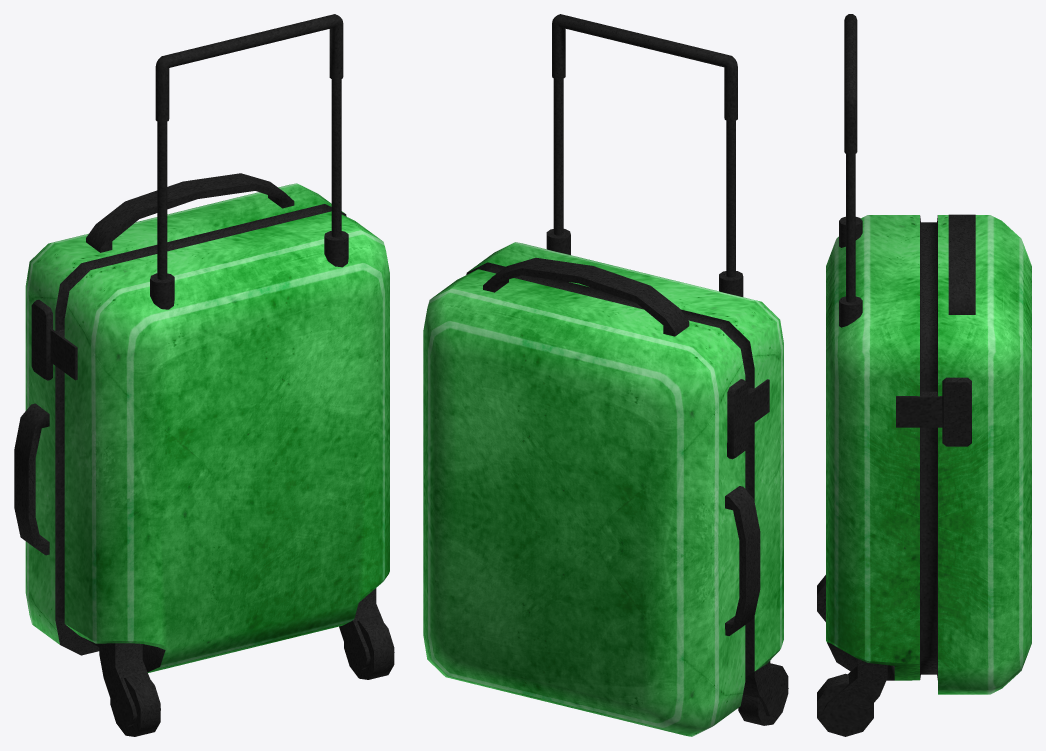
File: suitcase_9.fbx
The picture shows the model from 3 angles, left to right: view 1: azimuth 30°, elevation 25°; view 2: azimuth 150°, elevation 25°; view 3: azimuth 270°, elevation 25°; orthographic projection. The views are drawn at different scales.
Visible parts, largest first — view 1: suitcase_9; view 2: suitcase_9; view 3: suitcase_9.
Part boxes in pixels (bbox=[...]): suitcase_9: bbox=[14, 14, 394, 736]; suitcase_9: bbox=[423, 14, 788, 736]; suitcase_9: bbox=[817, 14, 1031, 736].
Size of the model in its own units: 0.7382 by 1.46 by 0.4539.
